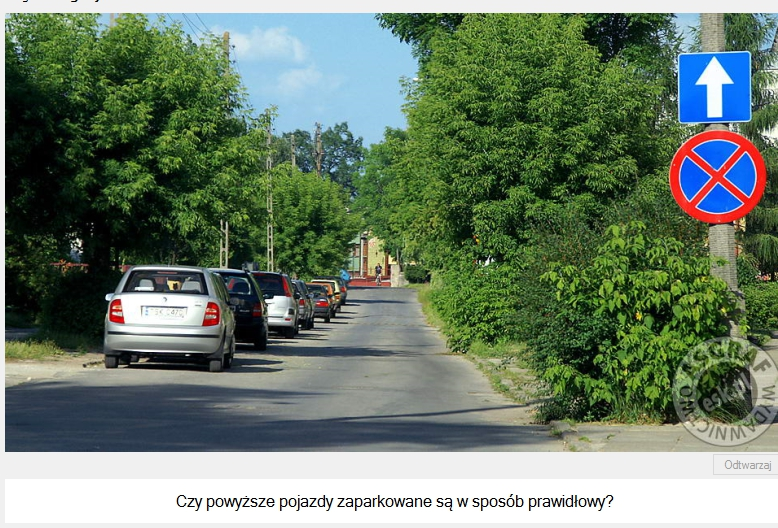no_stopping_sign: (670, 130, 766, 224)
